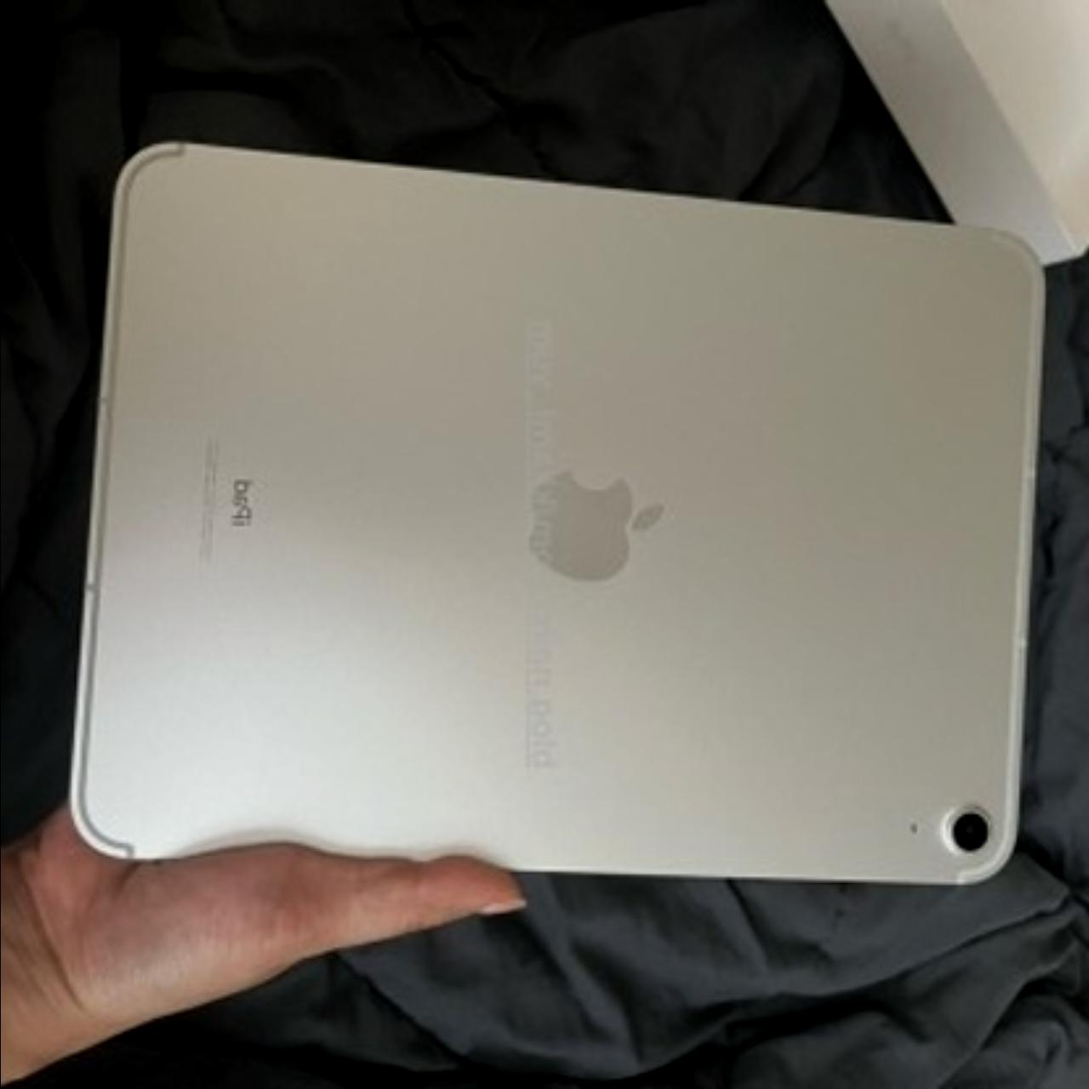Tablet_PC: (58, 123, 1050, 908)
